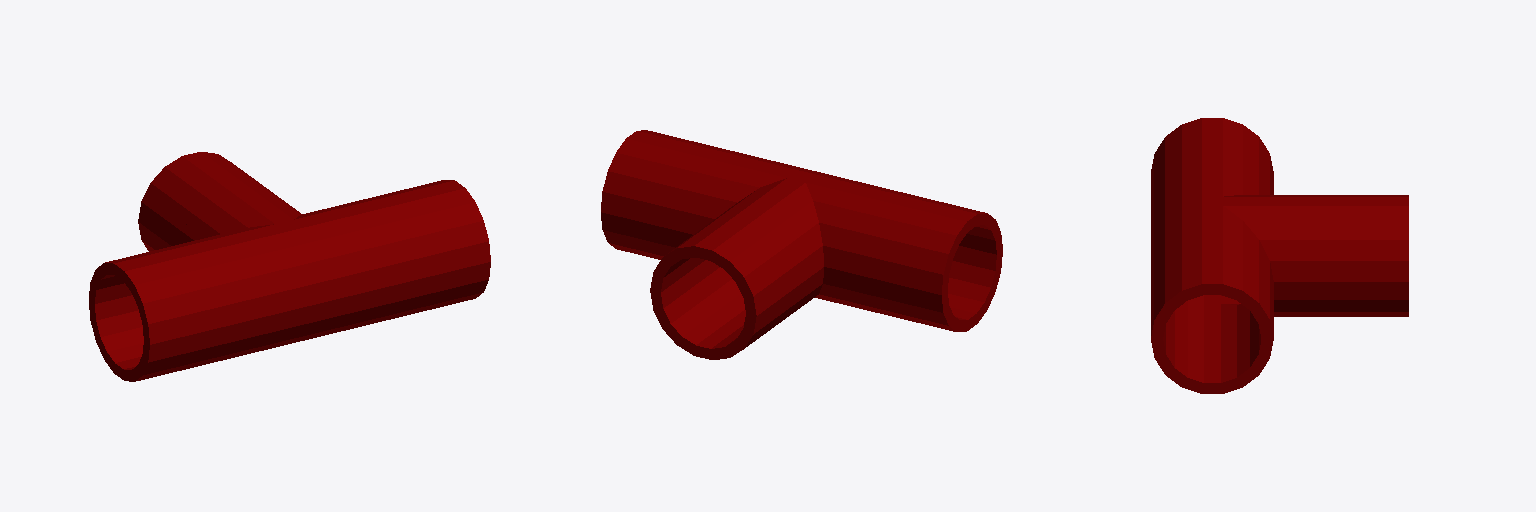
The model's file is tee.obj.
3 renders of one model, left to right at view 1: azimuth 30°, elevation 25°; view 2: azimuth 150°, elevation 25°; view 3: azimuth 270°, elevation 25°, orthographic.
Visible parts, largest first — view 1: Tube002; view 2: Tube002; view 3: Tube002.
Boxes of the visible parts, <box> form: Tube002: <box>89,152,490,381</box>; Tube002: <box>601,130,1002,359</box>; Tube002: <box>1151,118,1408,393</box>.
Size of the model in its own units: 80 by 24.62 by 52.5.